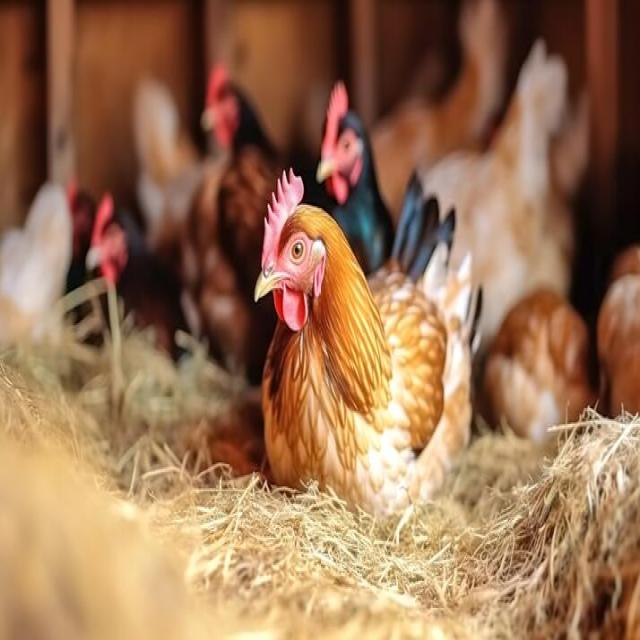Chicken: (254, 191, 472, 537), (86, 194, 172, 370), (314, 66, 389, 237)
